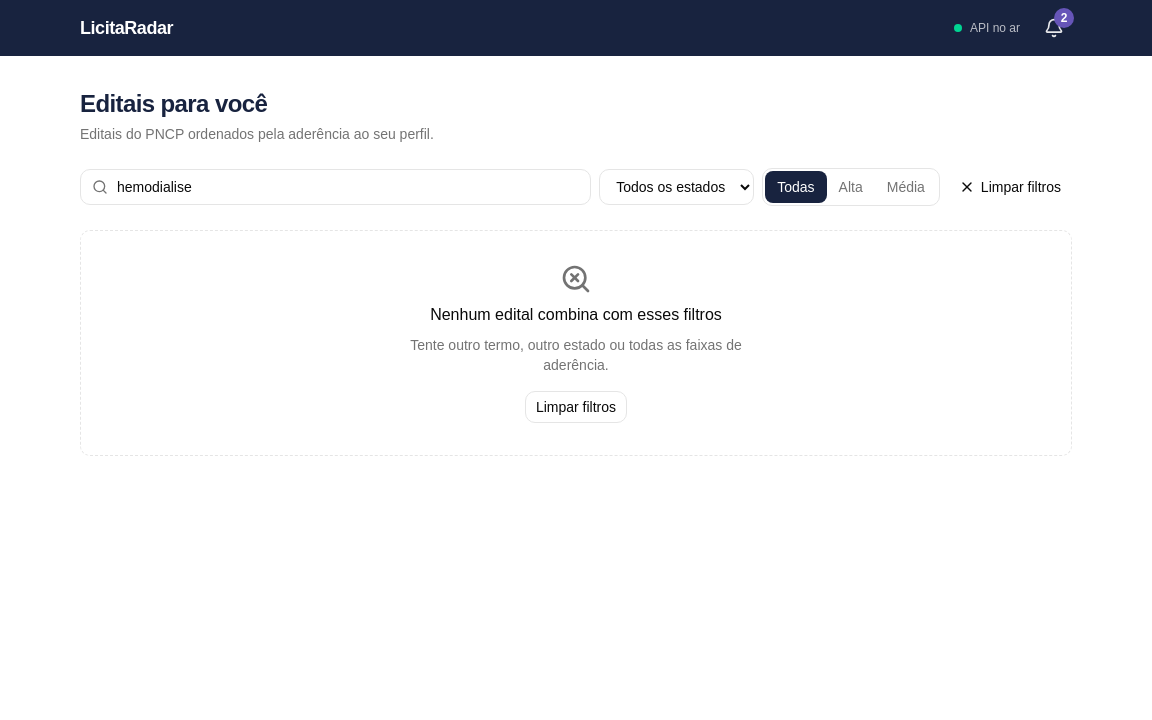
Scenario: Feed › sem resultados com filtro: explica e oferece limpar
Expected: the text "Nenhum edital combina com esses filtros" is shown, [430,303,722,327]
Click the 1st button "Limpar filtros". click: point(1010, 187)
box: [948,171,1072,203]
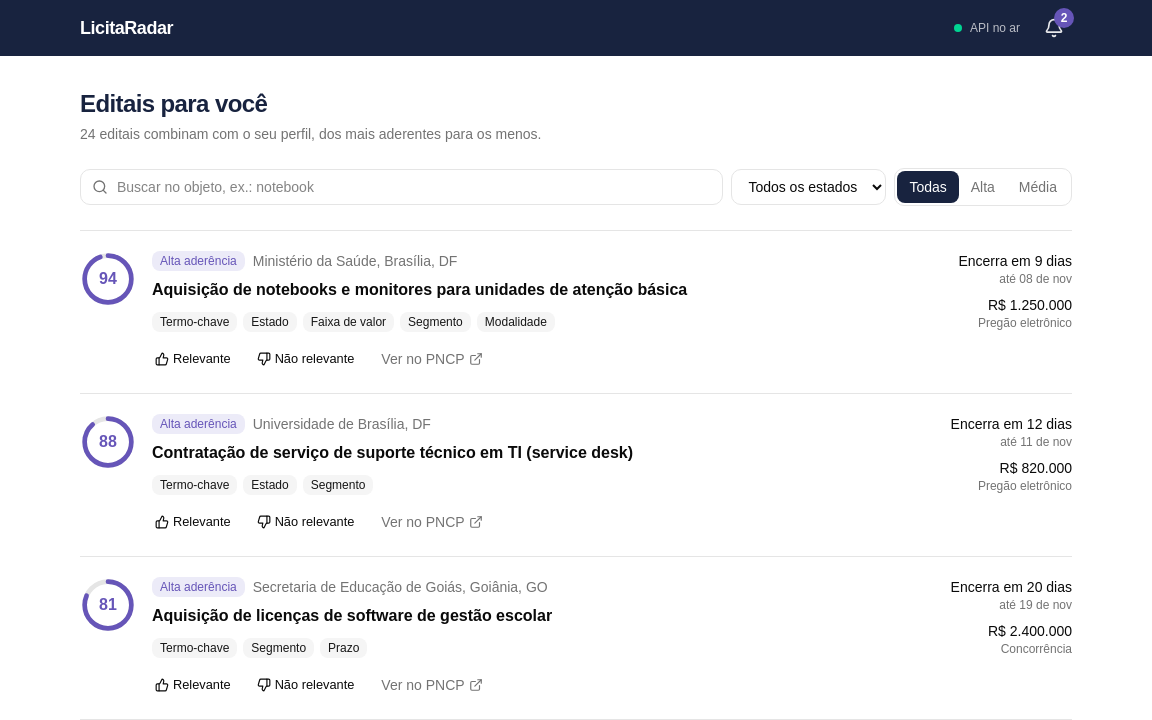
Result: the search field is empty at [80,169,723,205]
